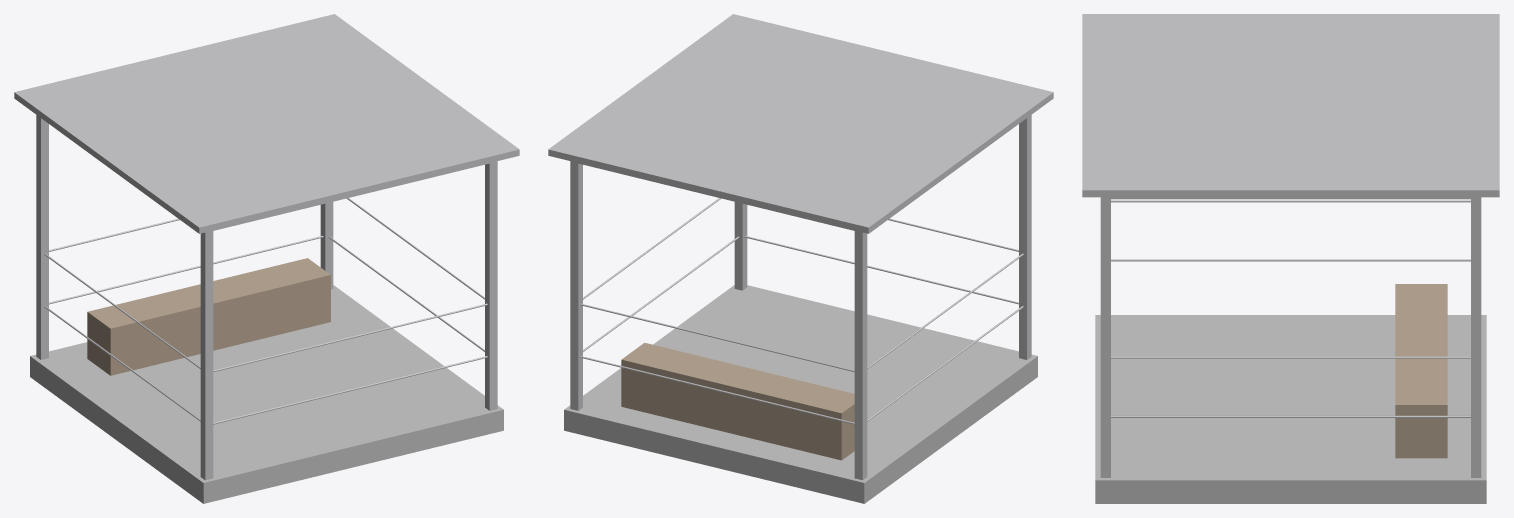
3 views of the same model, side by side, from view 1: azimuth 30°, elevation 25°; view 2: azimuth 150°, elevation 25°; view 3: azimuth 270°, elevation 25° (orthographic). The views are drawn at different scales.
Parts seen in each view (by area): view 1: Metal_Roof, Concrete_Platform, Wood_Bench, Steel_Post_-1_-1, Steel_Post_1_-1, Steel_Post_-1_1, Steel_Post_1_1, Cable_south_0.7, Cable_south_1.2, Cable_north_0.7; view 2: Metal_Roof, Concrete_Platform, Wood_Bench, Steel_Post_-1_1, Steel_Post_1_1, Steel_Post_-1_-1, Steel_Post_1_-1, Cable_north_0.7, Cable_north_1.2, Cable_south_0.7; view 3: Metal_Roof, Concrete_Platform, Wood_Bench, Steel_Post_1_1, Steel_Post_1_-1, Beam_y_1, Cable_east_0.7, Cable_east_1.2, Cable_west_0.7, Cable_west_1.2.
Boxes of the visible parts, bbox=[...] form: Metal_Roof: bbox=[14, 14, 519, 233]; Concrete_Platform: bbox=[30, 285, 503, 503]; Wood_Bench: bbox=[87, 258, 330, 375]; Steel_Post_-1_-1: bbox=[200, 230, 213, 480]; Steel_Post_1_-1: bbox=[485, 161, 497, 410]; Steel_Post_-1_1: bbox=[36, 115, 48, 359]; Steel_Post_1_1: bbox=[320, 202, 333, 289]; Cable_south_0.7: bbox=[213, 356, 487, 424]; Cable_south_1.2: bbox=[213, 303, 487, 371]; Cable_north_0.7: bbox=[49, 236, 323, 304]; Metal_Roof: bbox=[548, 14, 1053, 233]; Concrete_Platform: bbox=[564, 285, 1037, 503]; Wood_Bench: bbox=[621, 342, 854, 460]; Steel_Post_-1_1: bbox=[854, 230, 867, 480]; Steel_Post_1_1: bbox=[570, 161, 582, 410]; Steel_Post_-1_-1: bbox=[1019, 115, 1031, 359]; Steel_Post_1_-1: bbox=[734, 202, 747, 290]; Cable_north_0.7: bbox=[580, 356, 854, 424]; Cable_north_1.2: bbox=[580, 303, 854, 371]; Cable_south_0.7: bbox=[744, 236, 1018, 304]; Metal_Roof: bbox=[1082, 14, 1499, 197]; Concrete_Platform: bbox=[1095, 315, 1486, 503]; Wood_Bench: bbox=[1395, 284, 1447, 458]; Steel_Post_1_1: bbox=[1471, 197, 1481, 477]; Steel_Post_1_-1: bbox=[1100, 197, 1110, 477]; Beam_y_1: bbox=[1105, 197, 1476, 199]; Cable_east_0.7: bbox=[1111, 415, 1470, 417]; Cable_east_1.2: bbox=[1111, 356, 1470, 358]; Cable_west_0.7: bbox=[1111, 259, 1470, 261]; Cable_west_1.2: bbox=[1111, 200, 1470, 202].
Bounding box in the file's own units: 3.2 × 2.7 × 3.2.
